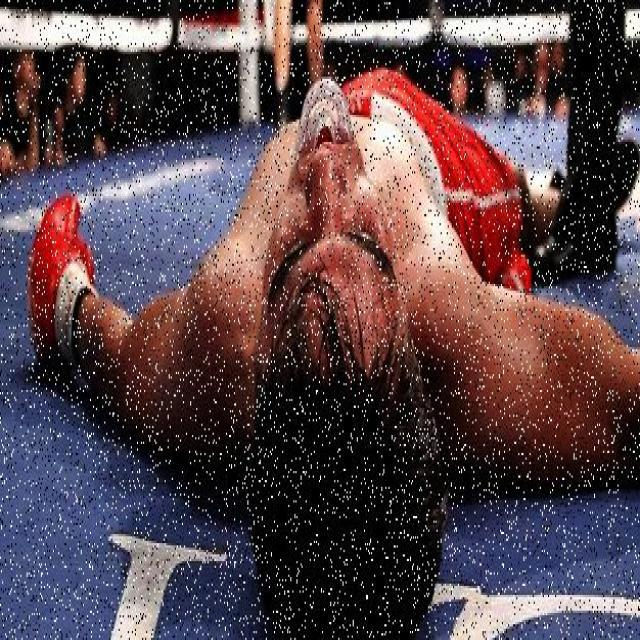fall: (52, 52, 580, 593)
